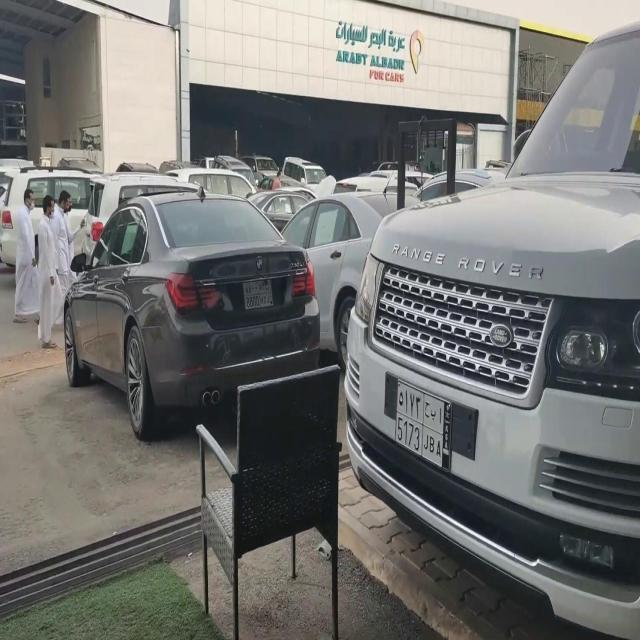license_plate: (391, 374, 451, 472), (240, 274, 274, 312)
